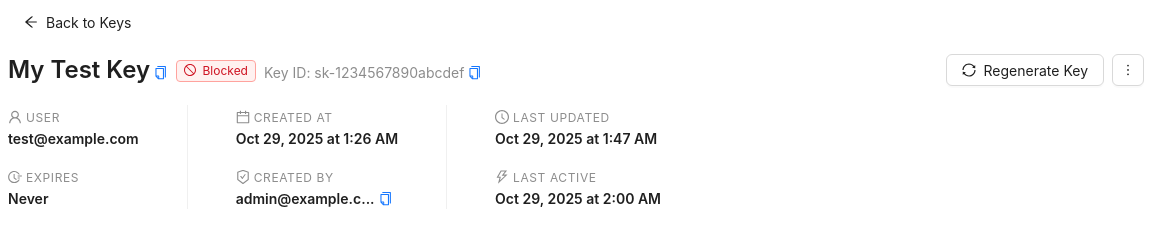
Scenario: KeyInfoHeader › destructive actions dropdown › should show Unblock Key instead of Block Key when the key is blocked
The image size is (1152, 226).
What coordinates should you click on to do the following:
click the button named "more key actions"
I would click on:
 (1128, 70)
Its box is [1112,54,1144,86].
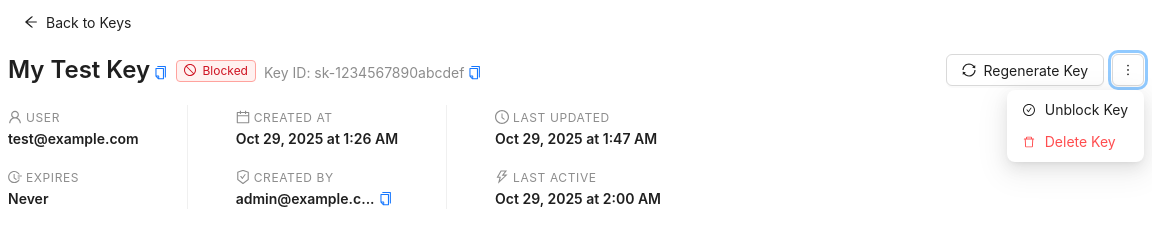
Expected: the menu item "Unblock Key" is shown, [1023,101,1128,118]
